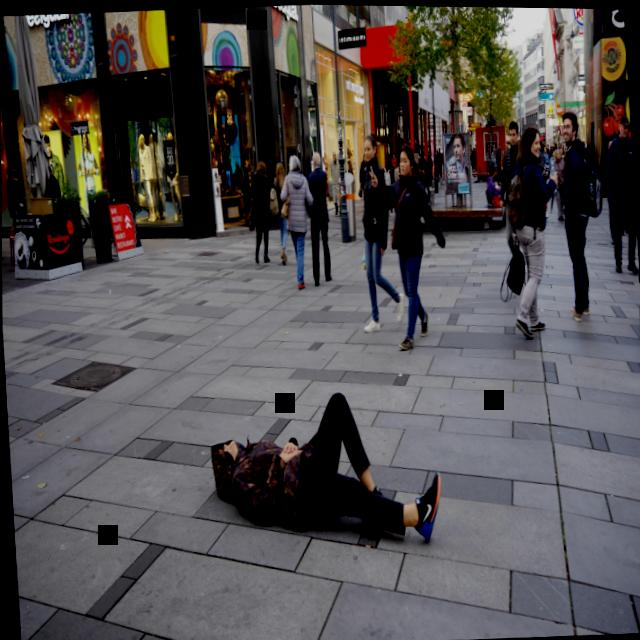Fall-Detected: (196, 371, 455, 568)
